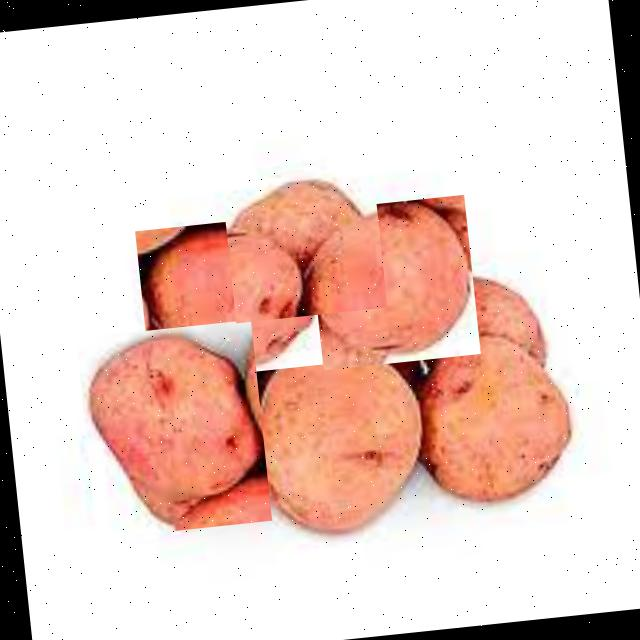Defected potato: (239, 328, 438, 545), (76, 320, 272, 538), (404, 328, 584, 516), (134, 212, 328, 382), (306, 194, 480, 370), (221, 168, 387, 323)
